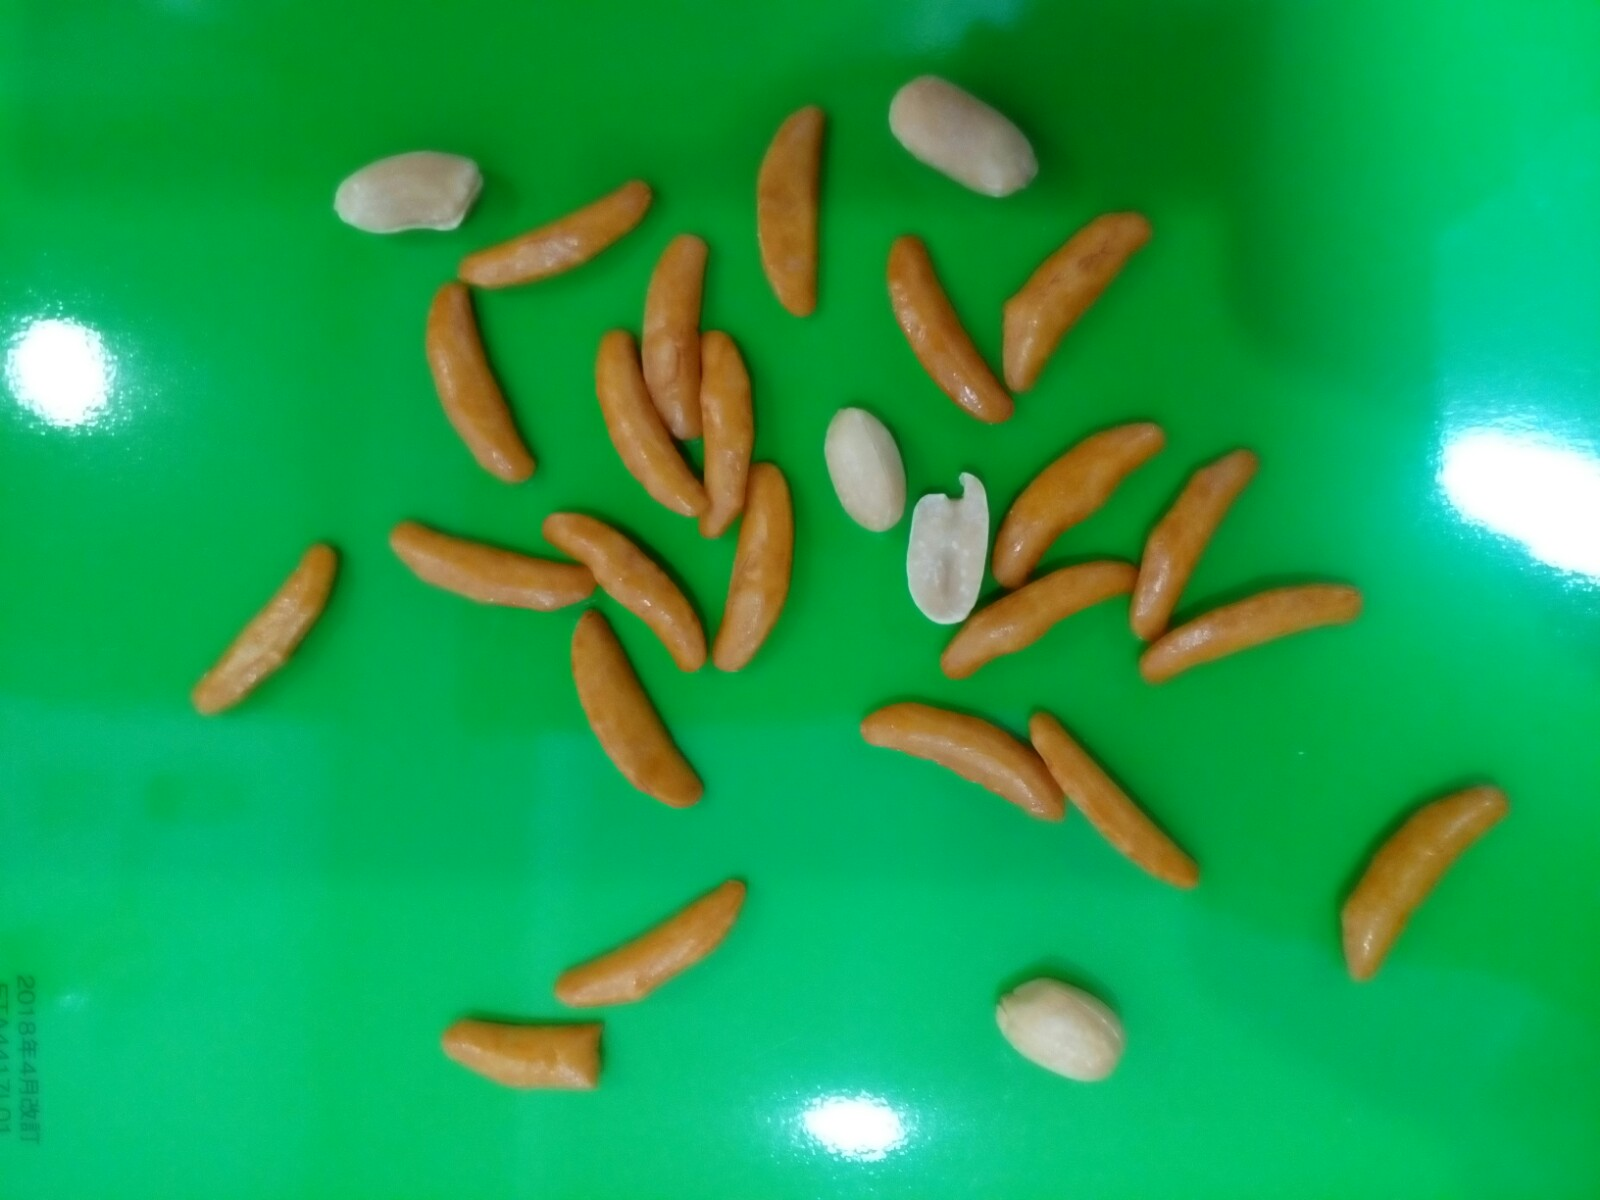peanut: (879, 76, 1044, 203), (330, 136, 500, 250), (891, 465, 1002, 635), (986, 969, 1136, 1092), (821, 401, 913, 539)
